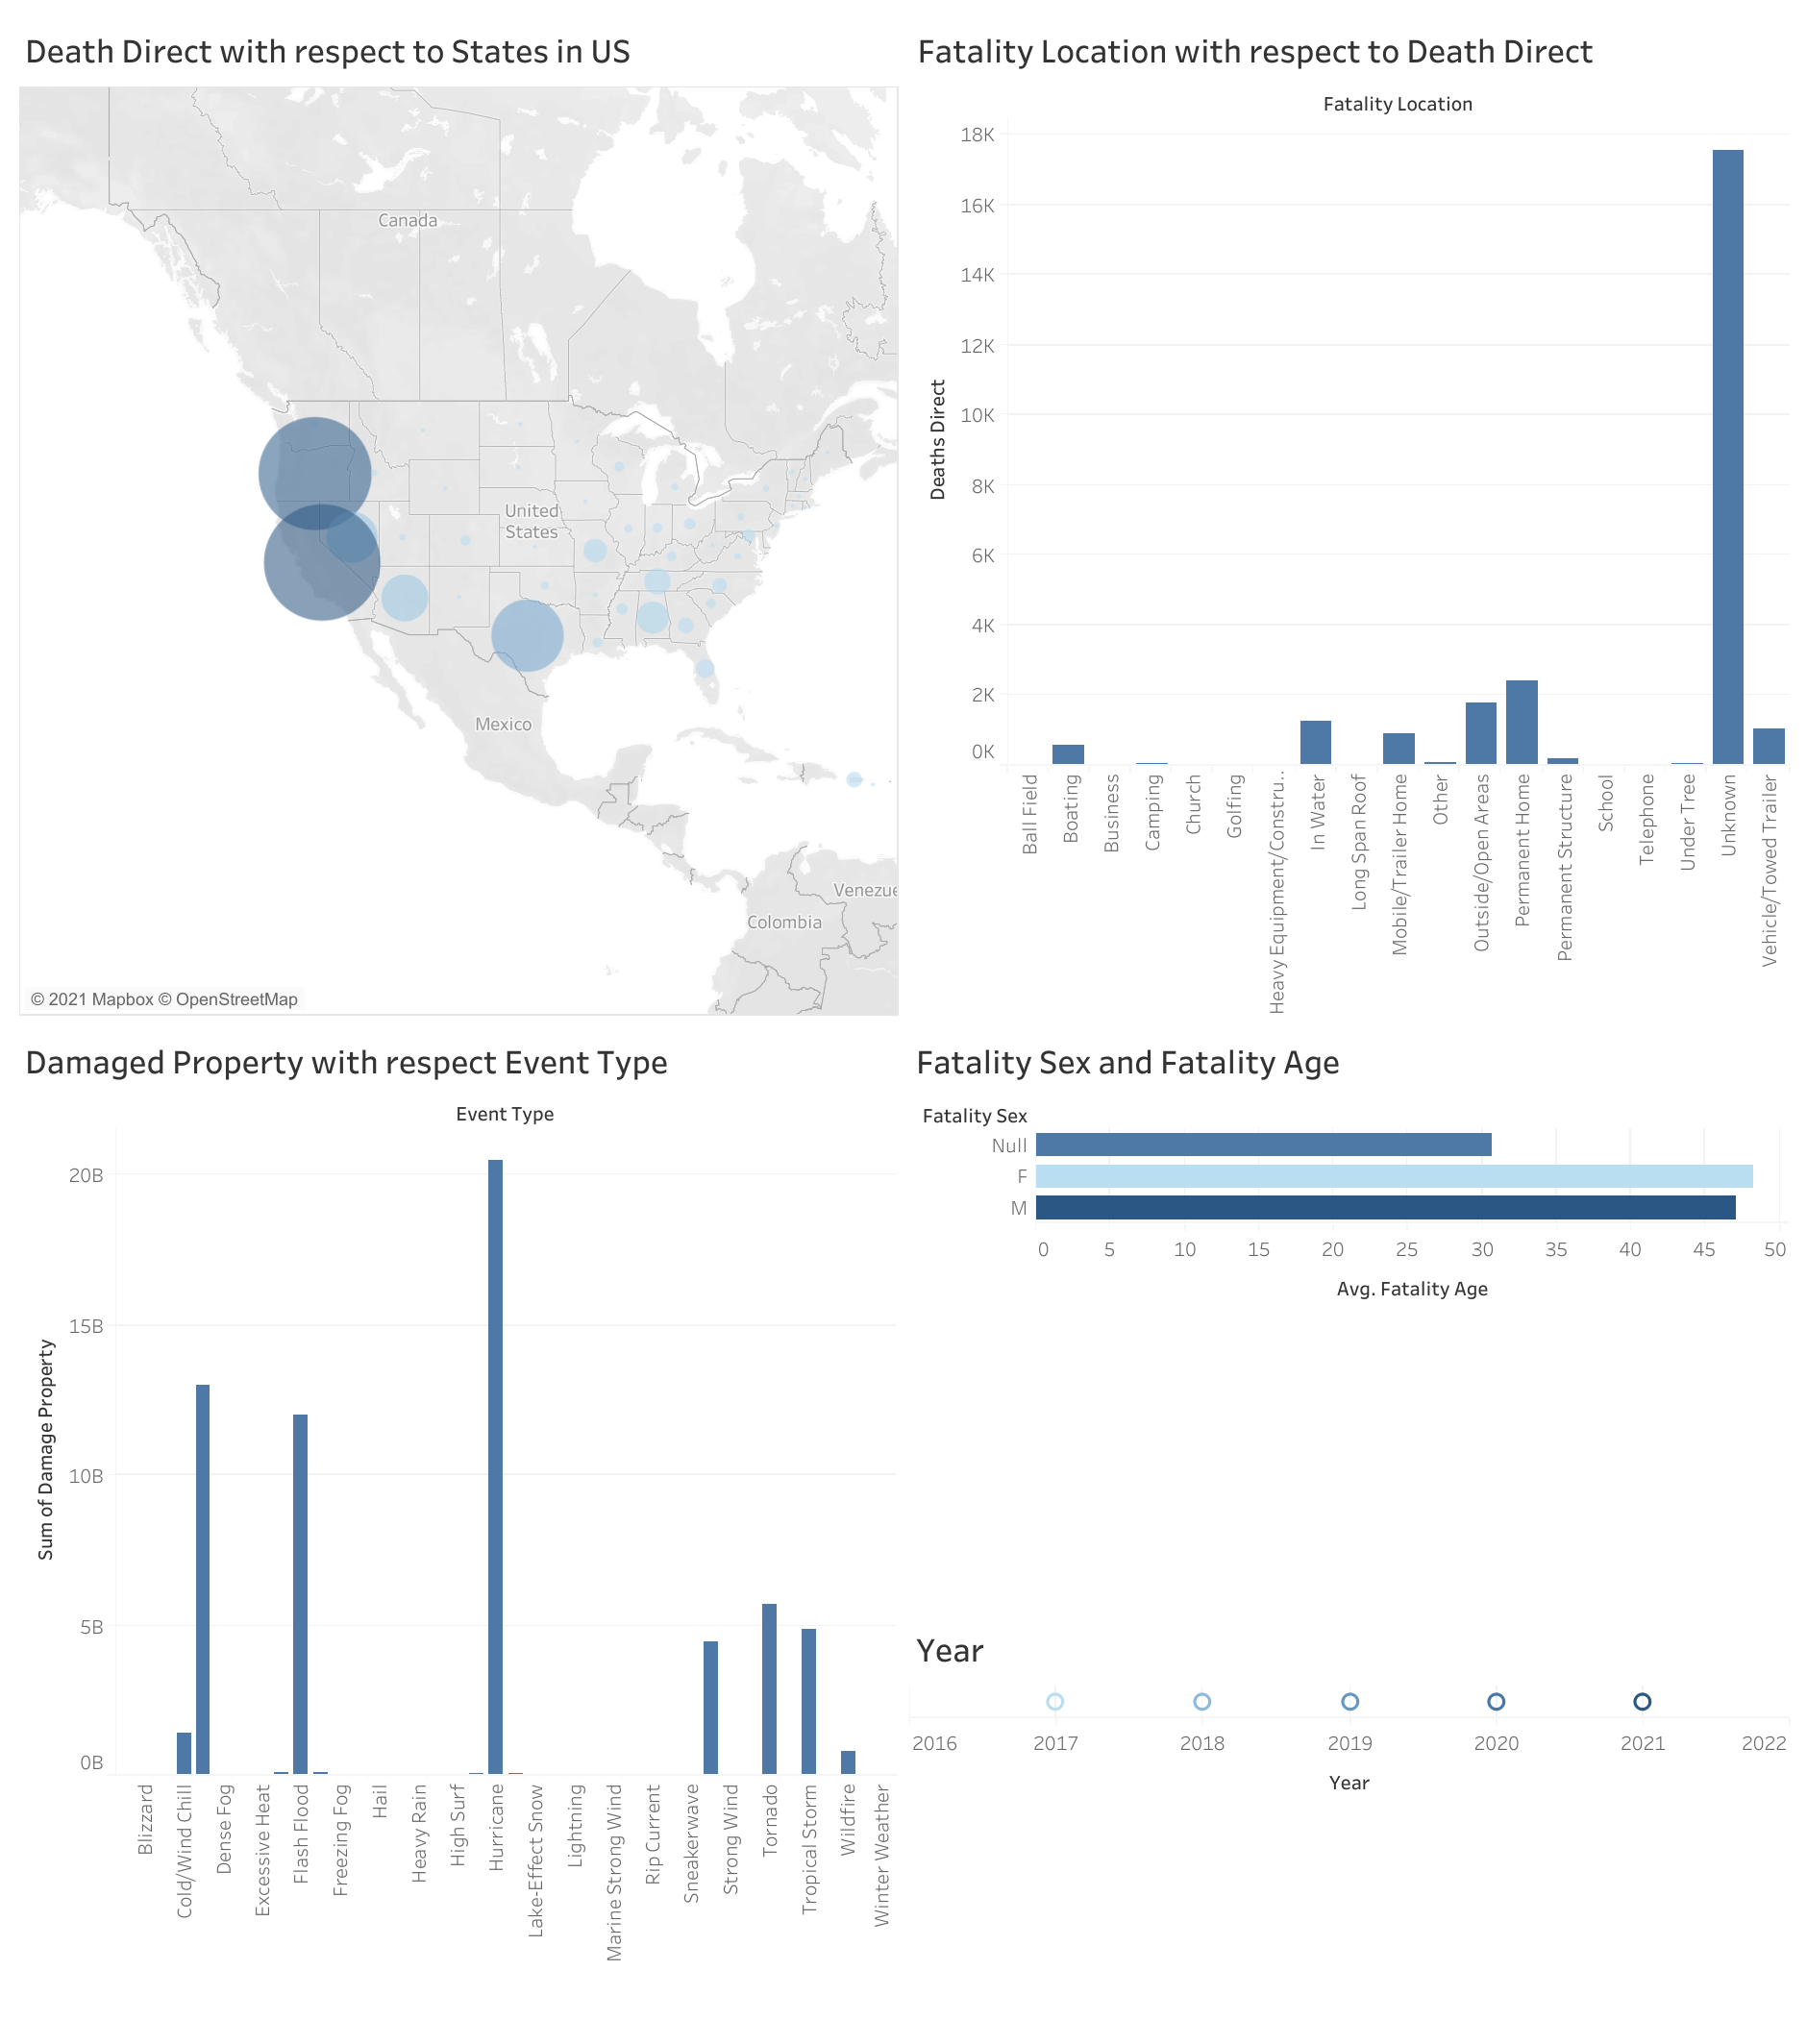

This screenshot's page, from the dashboard's own definition file:
{"tool":"tableau","page":{"name":"Dashboard 1","canvas":[1000,1000],"units":"permille","ordinal":0},"visuals":[{"type":"worksheet","title":"Sheet 1","mark":"Automatic","box":[4.8,9.1,495.4,490.9]},{"type":"worksheet","title":"Sheet 3","mark":"Bar","rows":["DEATHS_DIRECT"],"cols":["FATALITY_LOCATION"],"box":[500.3,9.1,494.9,490.9]},{"type":"worksheet","title":"Sheet 2","mark":"Automatic","rows":["DAMAGE_PROPERTY"],"cols":["EVENT_TYPE"],"box":[4.8,500,495.1,490.9]},{"type":"worksheet","title":"Sheet 4","mark":"Automatic","rows":["FATALITY_SEX"],"cols":["FATALITY_AGE"],"box":[499.9,500,495.2,286.2]},{"type":"worksheet","title":"Sheet 5","mark":"Shape","cols":["YEAR"],"box":[499.9,786.1,495.2,204.8]}]}

Visuals, with their boxes on the dashboard's canvas, which has no fixed pixel size, in thousandths of its width and height (x1, y1, x2, y2). These are canvas units, not pixel positions in the 1807x2044 screenshot, which may show the page scaled, cropped or inside an application window:
"Sheet 1" worksheet: pyautogui.locateOnScreen(5, 9, 500, 500)
"Sheet 3" worksheet (Bar marks): pyautogui.locateOnScreen(500, 9, 995, 500)
"Sheet 2" worksheet: pyautogui.locateOnScreen(5, 500, 500, 991)
"Sheet 4" worksheet: pyautogui.locateOnScreen(500, 500, 995, 786)
"Sheet 5" worksheet (Shape marks): pyautogui.locateOnScreen(500, 786, 995, 991)
